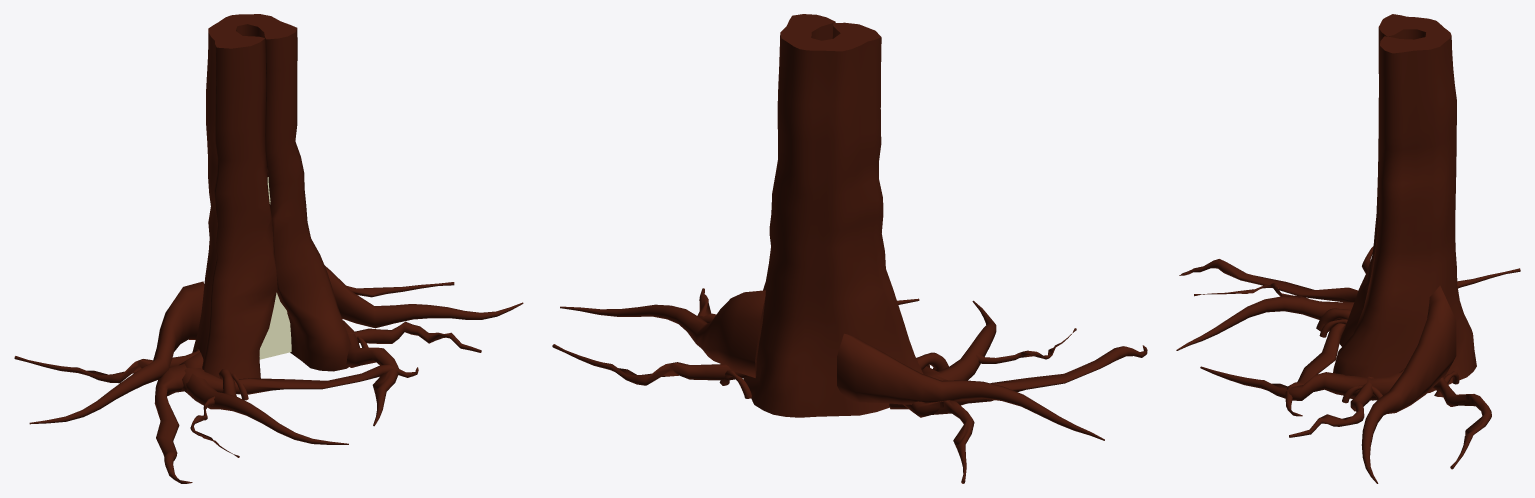
File: portal-tree.FBX
3 renders of one model, left to right at view 1: azimuth 30°, elevation 25°; view 2: azimuth 150°, elevation 25°; view 3: azimuth 270°, elevation 25°, orthographic. The views are drawn at different scales.
Parts seen in each view (by area): view 1: Portal-tree, Portal; view 2: Portal-tree; view 3: Portal-tree.
Boxes of the visible parts, left/top/right/bottom form: Portal-tree: left=14, top=14, right=523, bottom=483; Portal: left=259, top=177, right=291, bottom=359; Portal-tree: left=552, top=14, right=1147, bottom=483; Portal-tree: left=1176, top=14, right=1520, bottom=483.
Size of the model in its own units: 857 by 548 by 517.
